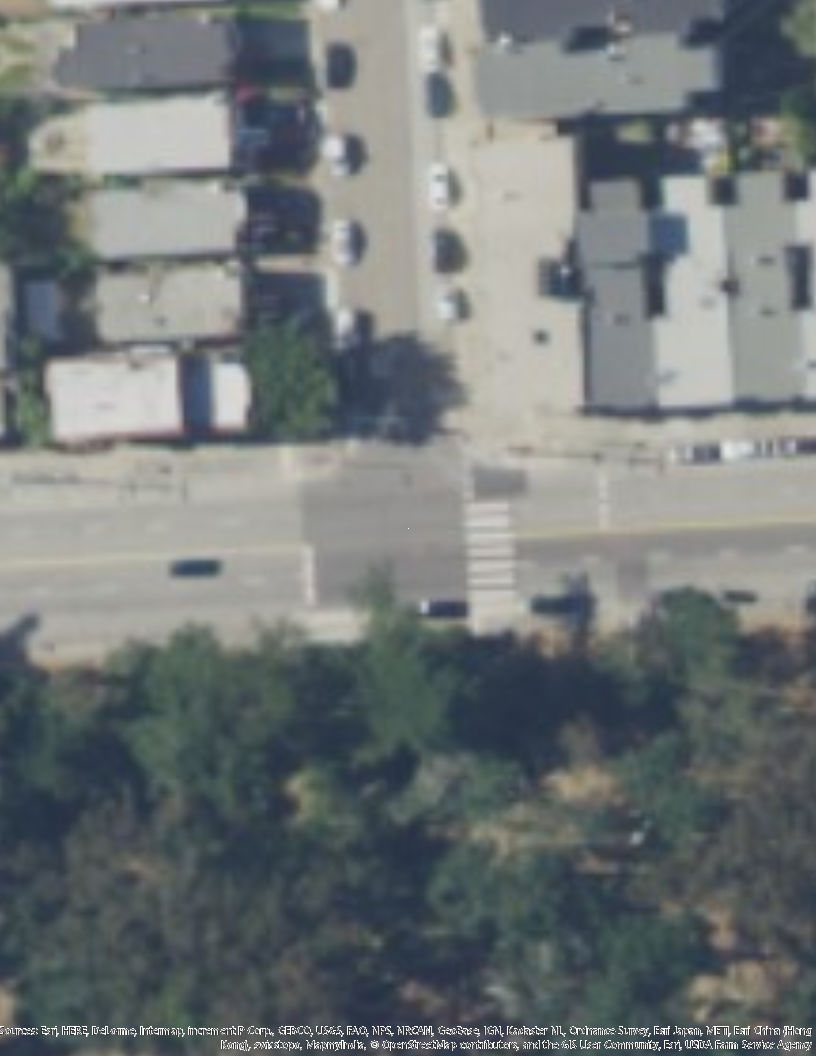zebracross: (463, 461, 520, 616)
